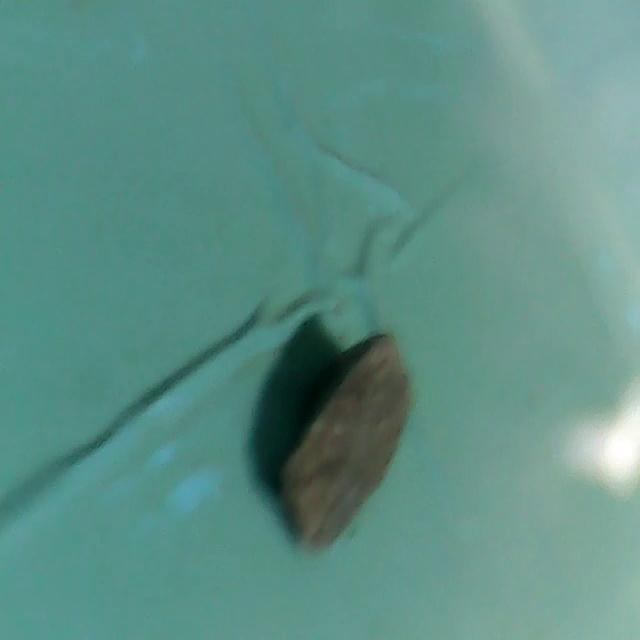rock: (272, 326, 422, 561)
